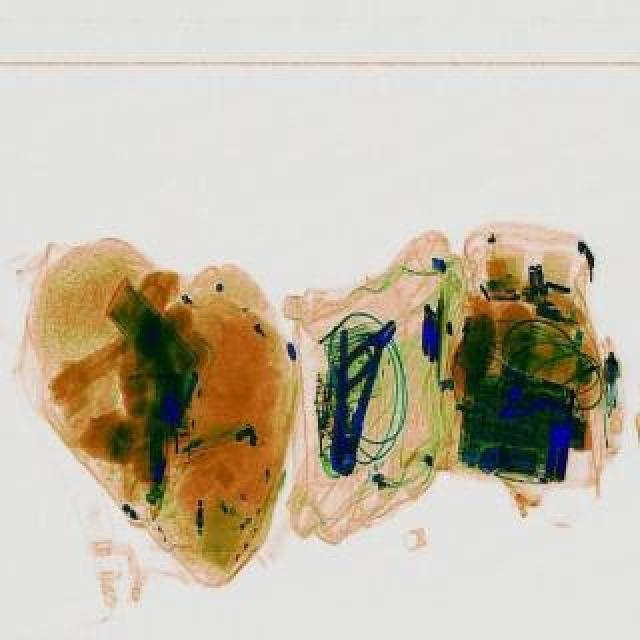wrench: (316, 326, 382, 474), (318, 312, 402, 400)
